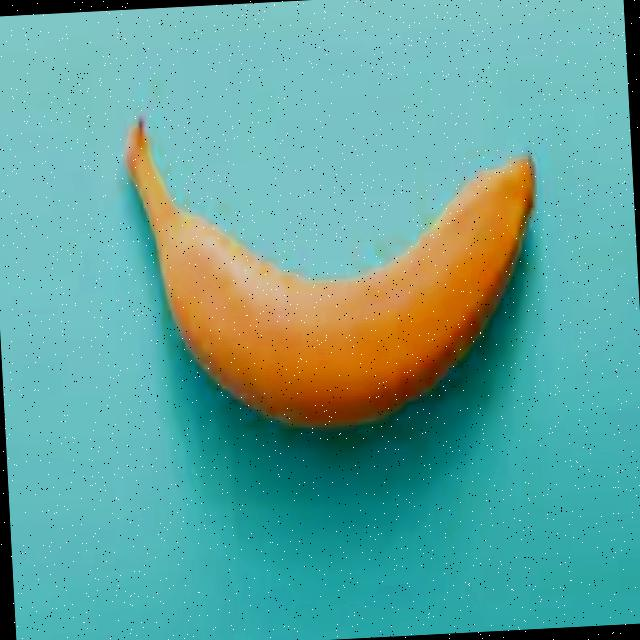Ripe: (106, 70, 565, 463)
